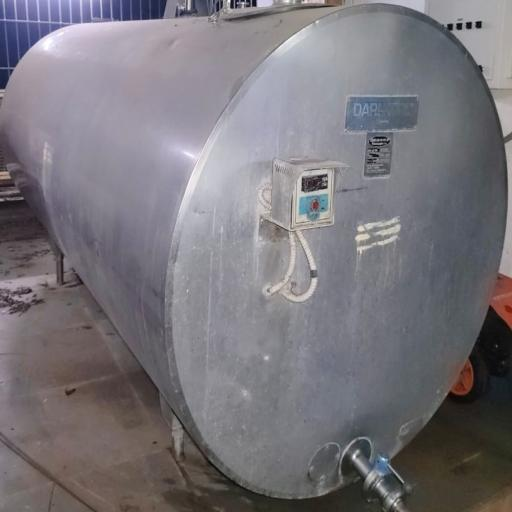silo: (0, 1, 510, 500)
